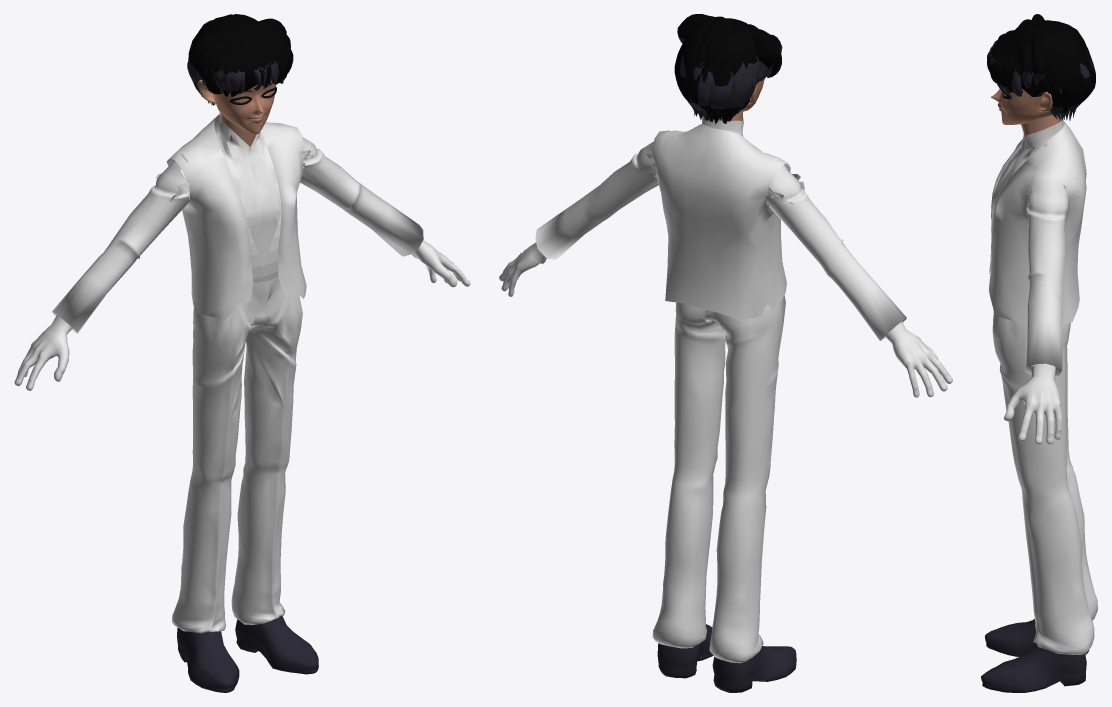
Rendered from casual-t-pose.fbx.
3 renders of one model, left to right at view 1: azimuth 30°, elevation 25°; view 2: azimuth 150°, elevation 25°; view 3: azimuth 270°, elevation 25°, orthographic.
Visible parts, largest first — view 1: Leg_R, Leg_L, Torso.023, Head, Arm_L.003, Arm_R.032, Torso.011, Cube; view 2: Torso.023, Leg_R, Leg_L, Arm_L.003, Head, Arm_R.032; view 3: Leg_L, Torso.023, Arm_R.032, Head, Leg_R, Torso.011.
Part boxes in pixels (<box>): Leg_R: <box>172,281,267,692</box>; Leg_L: <box>231,277,318,674</box>; Torso.023: <box>166,114,306,319</box>; Head: <box>187,14,293,146</box>; Arm_L.003: <box>14,153,190,390</box>; Arm_R.032: <box>290,126,470,287</box>; Torso.011: <box>214,112,281,267</box>; Cube: <box>245,211,281,297</box>; Torso.023: <box>651,124,790,320</box>; Leg_R: <box>705,295,796,692</box>; Leg_L: <box>652,302,726,678</box>; Arm_L.003: <box>766,157,952,397</box>; Head: <box>674,14,782,131</box>; Arm_R.032: <box>499,130,669,296</box>; Leg_L: <box>981,312,1094,692</box>; Torso.023: <box>989,120,1086,324</box>; Arm_R.032: <box>1003,174,1068,444</box>; Head: <box>987,14,1095,138</box>; Leg_R: <box>985,311,1097,656</box>; Torso.011: <box>992,113,1063,208</box>.
Size of the model in its own units: 132 by 181 by 30.1.
Materials: 27 (18 with a texture image).
